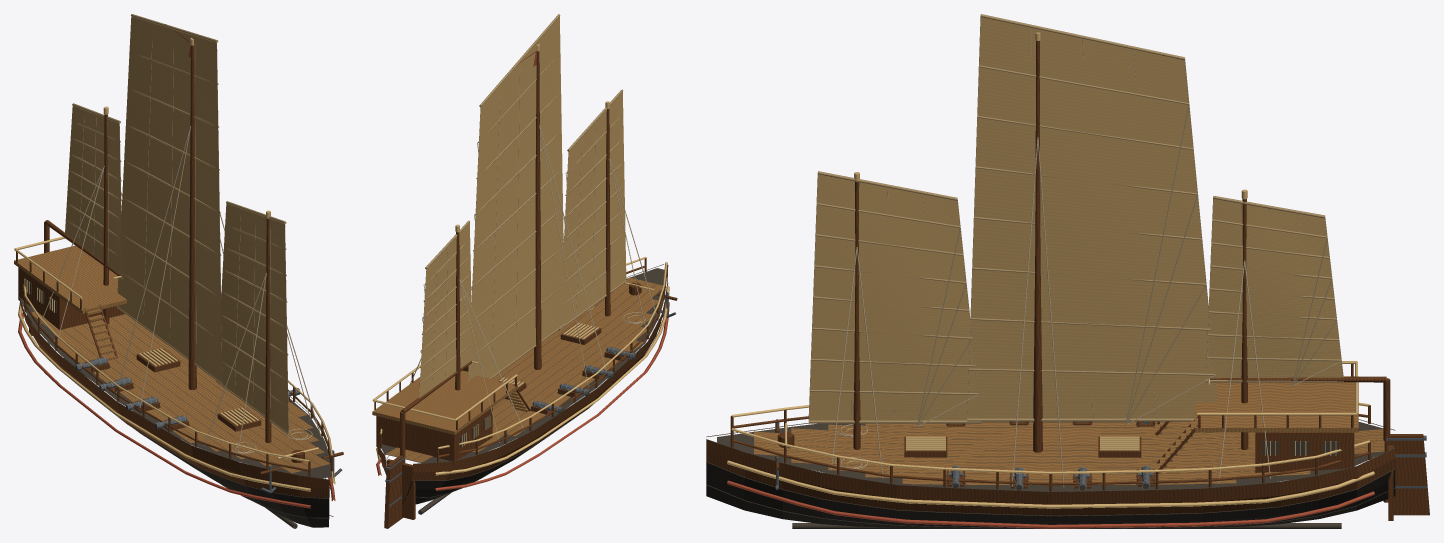
File: fuchuan-lod2.glb
3 renders of one model, left to right at view 1: azimuth 30°, elevation 25°; view 2: azimuth 150°, elevation 25°; view 3: azimuth 270°, elevation 25°, orthographic. The views are drawn at different scales.
Parts seen in each view (by area): view 1: sail_1, deck, sail_0, hull, sail_2, deck_fittings, bulwark_rails, mast_timber_1, sterncastle, mast_timber_0, rigging_1, rigging_0 (+4 smaller); view 2: sail_1, deck, sail_0, hull, sail_2, sterncastle, deck_fittings, bulwark_rails, mast_timber_1, rudder_blade, mast_timber_0, rigging_1 (+4 smaller); view 3: sail_1, sail_0, deck, hull, sail_2, bulwark_rails, deck_fittings, sterncastle, mast_timber_1, rudder_blade, mast_timber_0, rigging_1 (+1 smaller).
Boxes of the visible parts, x1,y1,x2,y2 form: sail_1: [116, 14, 222, 384]; deck: [14, 245, 331, 478]; sail_0: [216, 201, 290, 434]; hull: [18, 296, 335, 528]; sail_2: [65, 103, 122, 278]; deck_fittings: [14, 236, 343, 493]; bulwark_rails: [23, 284, 332, 476]; mast_timber_1: [188, 45, 196, 389]; sterncastle: [18, 267, 124, 329]; mast_timber_0: [265, 218, 271, 442]; rigging_1: [116, 126, 224, 410]; rigging_0: [204, 273, 321, 457]; sail_1: [468, 14, 565, 381]; deck: [372, 268, 664, 463]; sail_0: [559, 89, 626, 330]; hull: [376, 264, 669, 519]; sail_2: [418, 220, 472, 398]; sterncastle: [376, 407, 492, 465]; deck_fittings: [372, 282, 677, 447]; bulwark_rails: [379, 256, 667, 462]; mast_timber_1: [534, 51, 541, 369]; rudder_blade: [384, 455, 403, 528]; mast_timber_0: [605, 109, 610, 316]; rigging_1: [539, 125, 606, 389]; sail_1: [967, 14, 1217, 425]; sail_0: [808, 171, 980, 427]; deck: [717, 376, 1384, 491]; hull: [706, 419, 1395, 528]; sail_2: [1206, 196, 1343, 386]; bulwark_rails: [730, 402, 1370, 491]; deck_fittings: [775, 361, 1357, 489]; sterncastle: [1255, 432, 1354, 472]; mast_timber_1: [1033, 41, 1042, 452]; rudder_blade: [1384, 434, 1429, 515]; mast_timber_0: [853, 181, 860, 449]; rigging_1: [1011, 137, 1064, 487].
Size of the model in its own units: 9.53 by 26.38 by 33.61.
12 materials, 4 textured.
